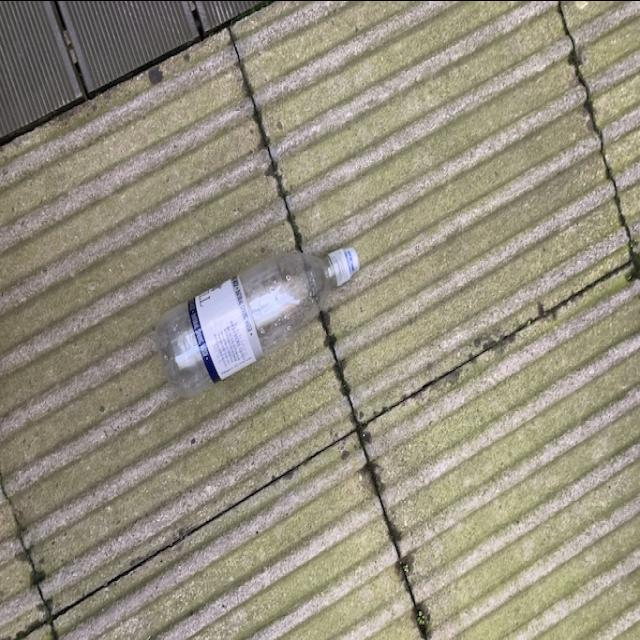litter: (156, 234, 362, 398)
